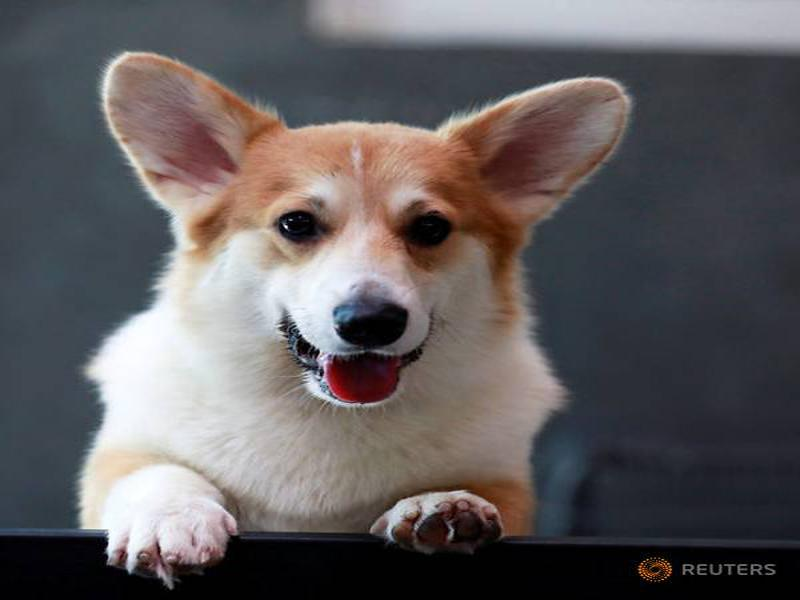corgi: (101, 47, 634, 412)
